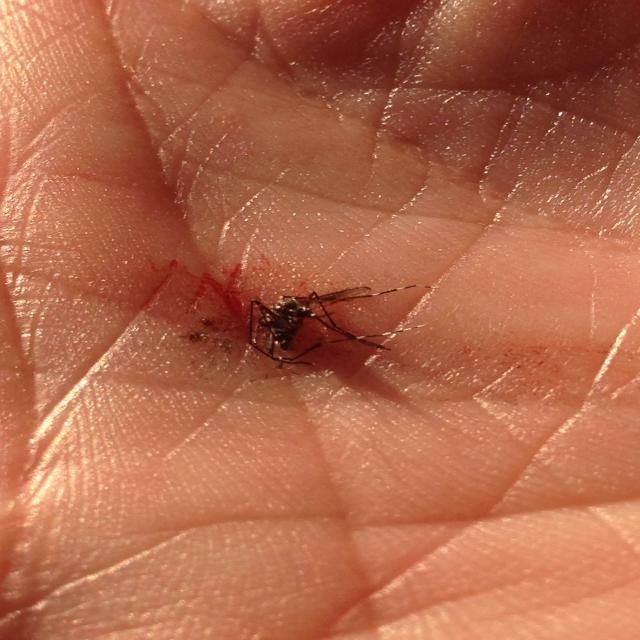albopictus: (239, 275, 426, 366)
